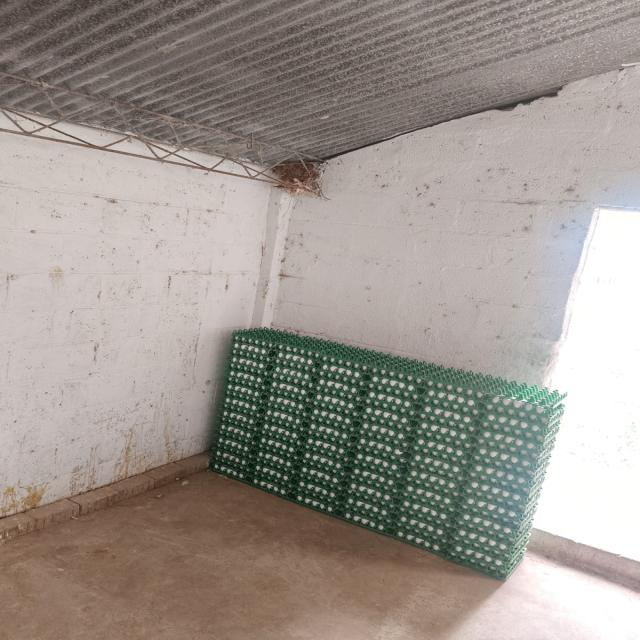egg_tray: (260, 330, 561, 578), (396, 372, 481, 554), (398, 379, 478, 552), (345, 367, 419, 534), (298, 346, 365, 515), (345, 451, 456, 552), (298, 361, 362, 514), (253, 345, 314, 497), (350, 372, 419, 504), (212, 336, 269, 480), (461, 442, 552, 530), (465, 426, 552, 518), (467, 421, 556, 510), (407, 380, 478, 491), (461, 444, 550, 530), (410, 379, 481, 484), (397, 443, 464, 552), (396, 450, 463, 552), (462, 446, 548, 522), (447, 504, 533, 577), (345, 429, 405, 532), (455, 475, 537, 550), (356, 373, 418, 472), (358, 368, 422, 461), (447, 512, 533, 576), (447, 512, 531, 577), (478, 396, 561, 459), (297, 418, 350, 514), (396, 472, 458, 553), (293, 423, 346, 513), (419, 380, 481, 453), (214, 385, 262, 479), (310, 356, 364, 439), (253, 403, 301, 496), (363, 370, 421, 444), (485, 392, 564, 442), (485, 397, 562, 446), (267, 346, 315, 424), (449, 520, 530, 566), (310, 365, 363, 435), (345, 461, 395, 534), (460, 480, 537, 526), (470, 445, 551, 486), (446, 537, 525, 577), (462, 482, 534, 525), (423, 365, 495, 408), (451, 512, 530, 551), (212, 409, 254, 480), (413, 420, 475, 467), (467, 463, 545, 499), (446, 544, 525, 578), (366, 367, 423, 414), (270, 345, 317, 399), (311, 338, 365, 384), (489, 384, 565, 414), (227, 341, 269, 395), (396, 512, 449, 554), (407, 446, 465, 484), (425, 379, 483, 415), (228, 336, 272, 377), (318, 354, 367, 388), (229, 336, 271, 375), (254, 438, 279, 459), (496, 453, 531, 468), (276, 407, 287, 419), (286, 398, 293, 409), (345, 348, 353, 356), (263, 408, 271, 416), (279, 425, 287, 432), (271, 468, 282, 472), (479, 428, 485, 434), (225, 396, 232, 401), (498, 420, 506, 424), (479, 500, 484, 506), (478, 519, 487, 522), (517, 437, 523, 441), (481, 536, 487, 540), (269, 414, 272, 421), (408, 384, 413, 388), (368, 457, 373, 461), (436, 368, 441, 372), (399, 374, 403, 378), (412, 398, 416, 402), (481, 564, 485, 568), (458, 455, 462, 458), (490, 431, 494, 434), (383, 465, 387, 468), (289, 451, 293, 454), (284, 432, 287, 436), (412, 412, 414, 418), (490, 544, 495, 546), (386, 497, 389, 500), (479, 438, 483, 440), (479, 540, 483, 542), (490, 544, 494, 546), (277, 448, 281, 450), (361, 442, 364, 444), (472, 519, 475, 521), (385, 500, 388, 502), (510, 383, 515, 384), (523, 393, 525, 395), (359, 438, 361, 440), (247, 332, 249, 334), (484, 469, 485, 472), (287, 420, 290, 421), (471, 380, 474, 381), (418, 474, 420, 475), (284, 469, 285, 471), (251, 333, 253, 334), (253, 333, 255, 334), (478, 538, 479, 539), (464, 381, 466, 381), (449, 452, 450, 452), (392, 458, 393, 458), (501, 547, 501, 548), (289, 430, 290, 430), (278, 372, 280, 372), (354, 372, 358, 372)
